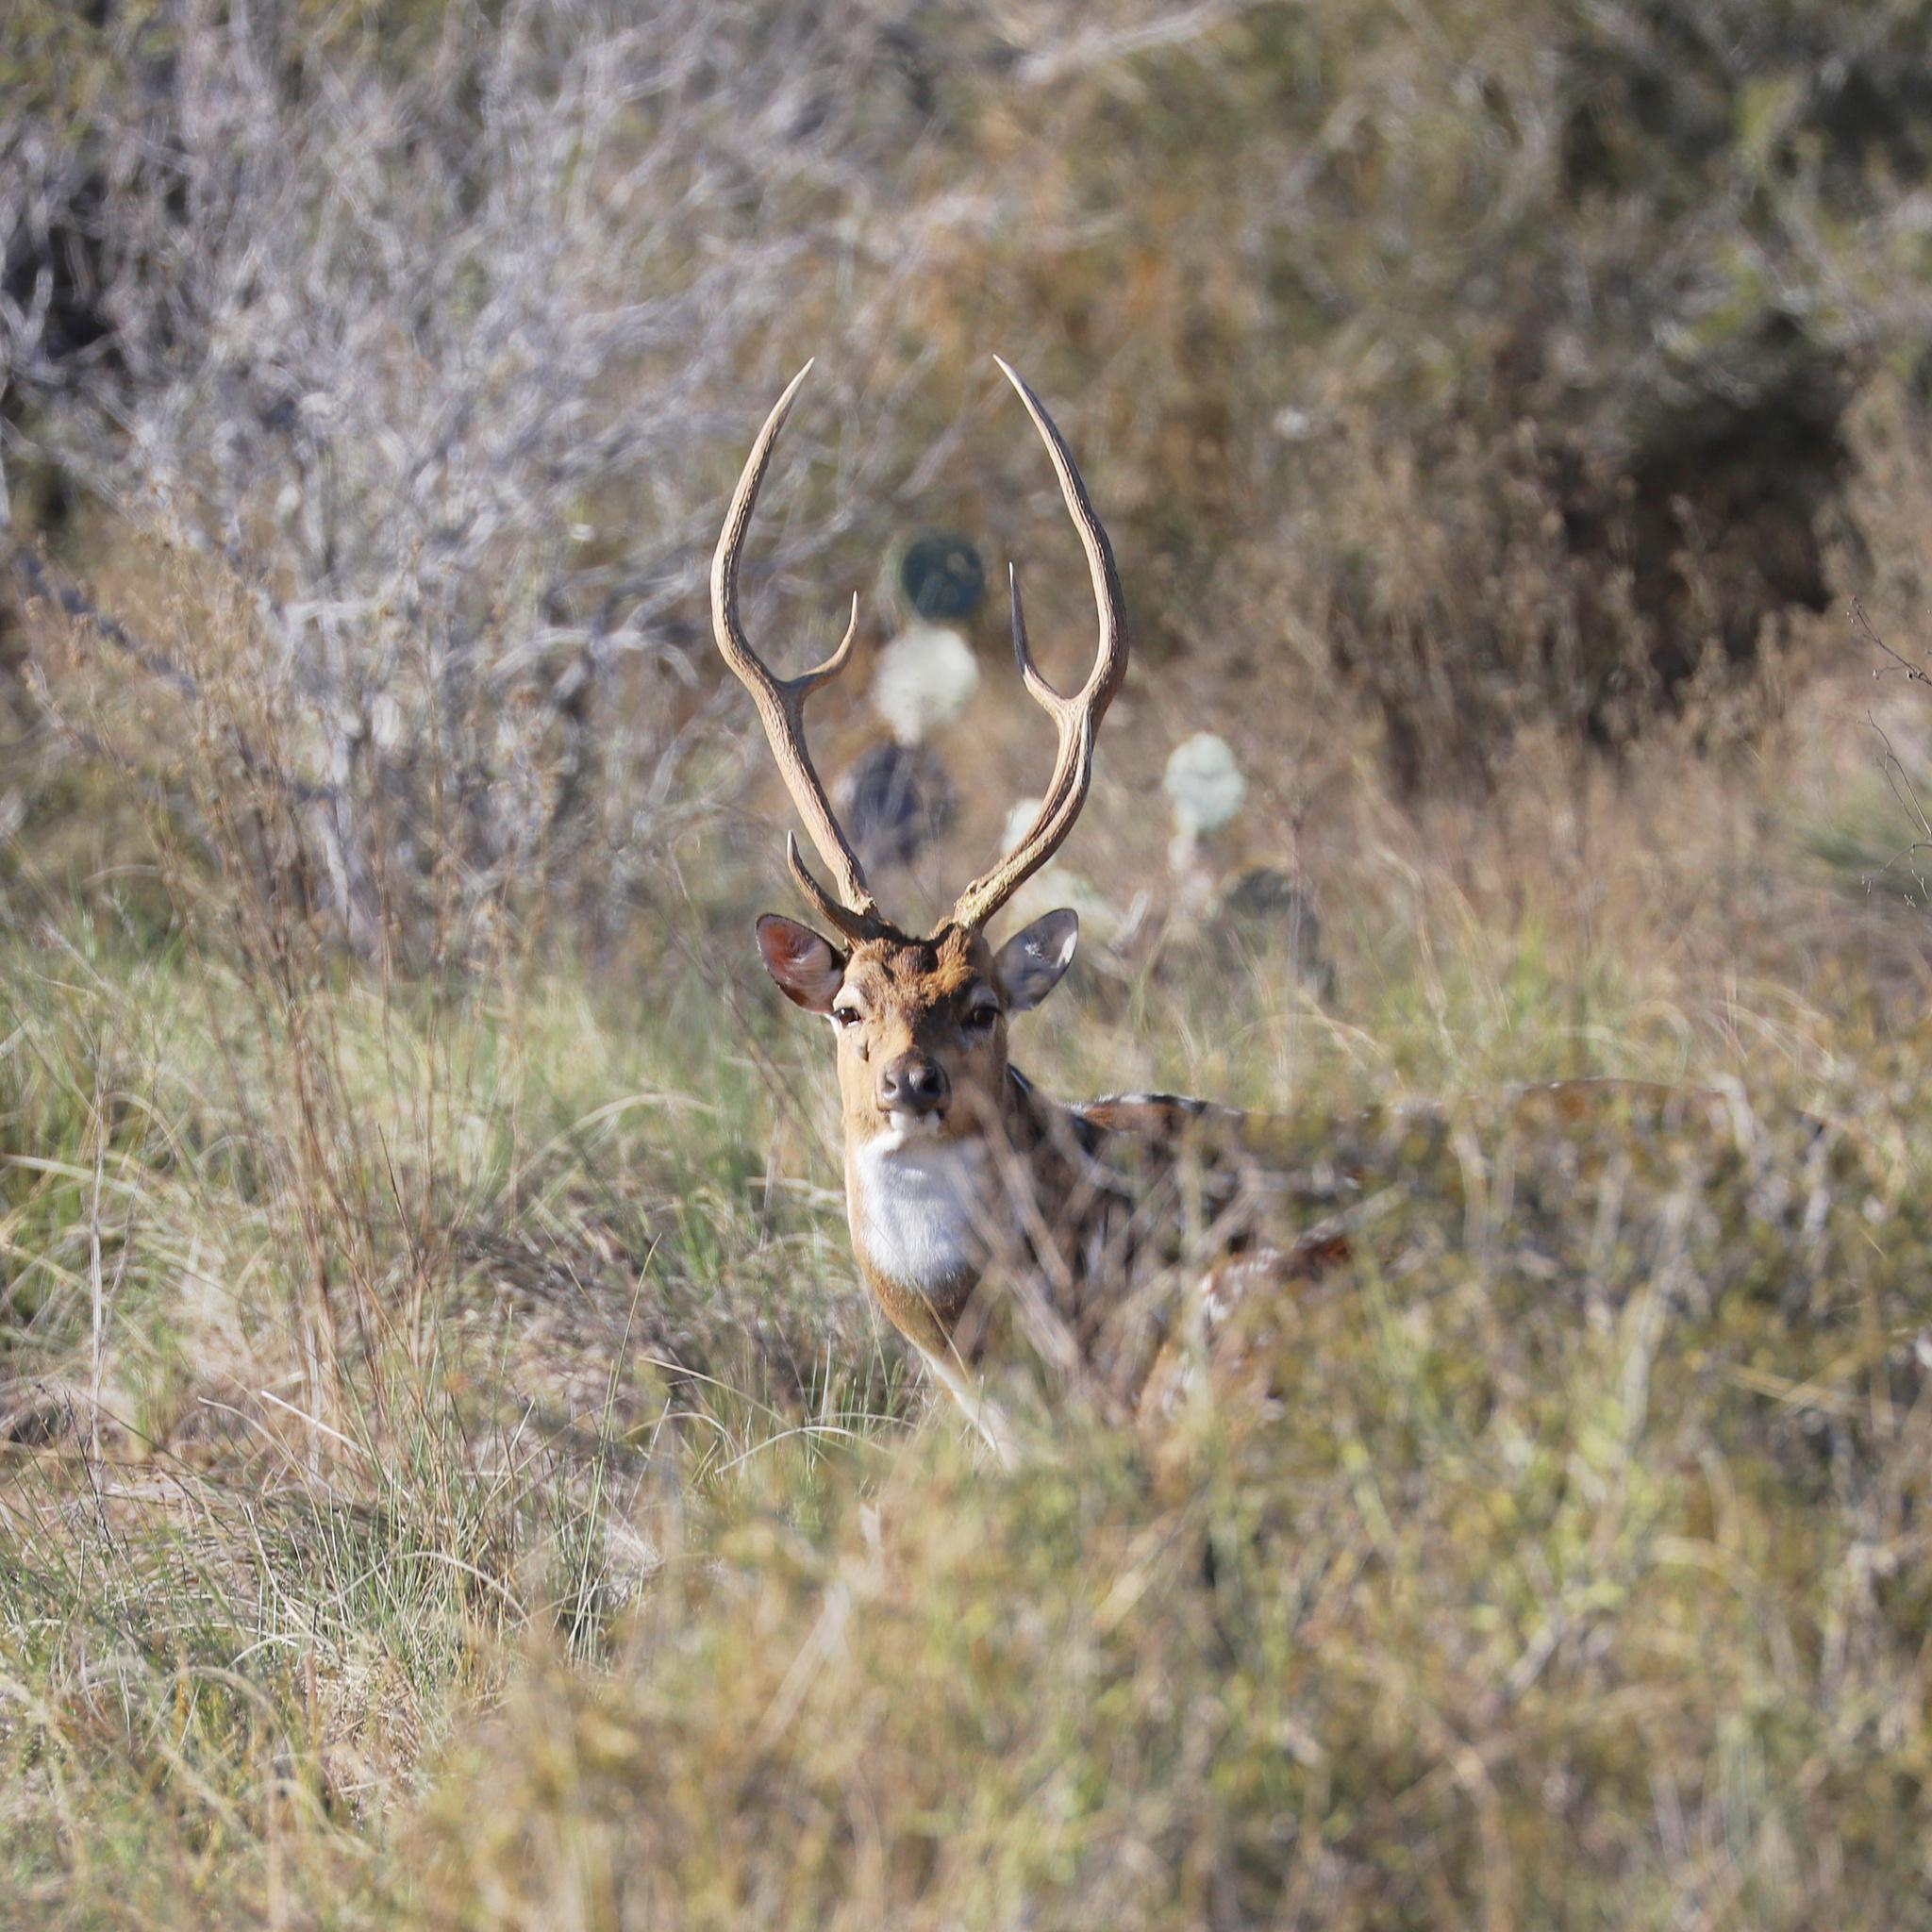Deer: (711, 364, 1129, 1364)
